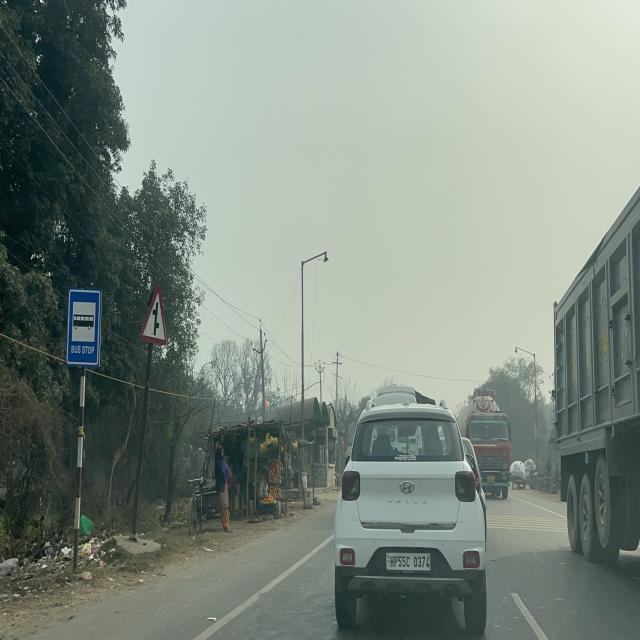INFORMATION: (65, 286, 102, 368)
STAGGERED_INTERSECTION: (139, 284, 168, 345)
